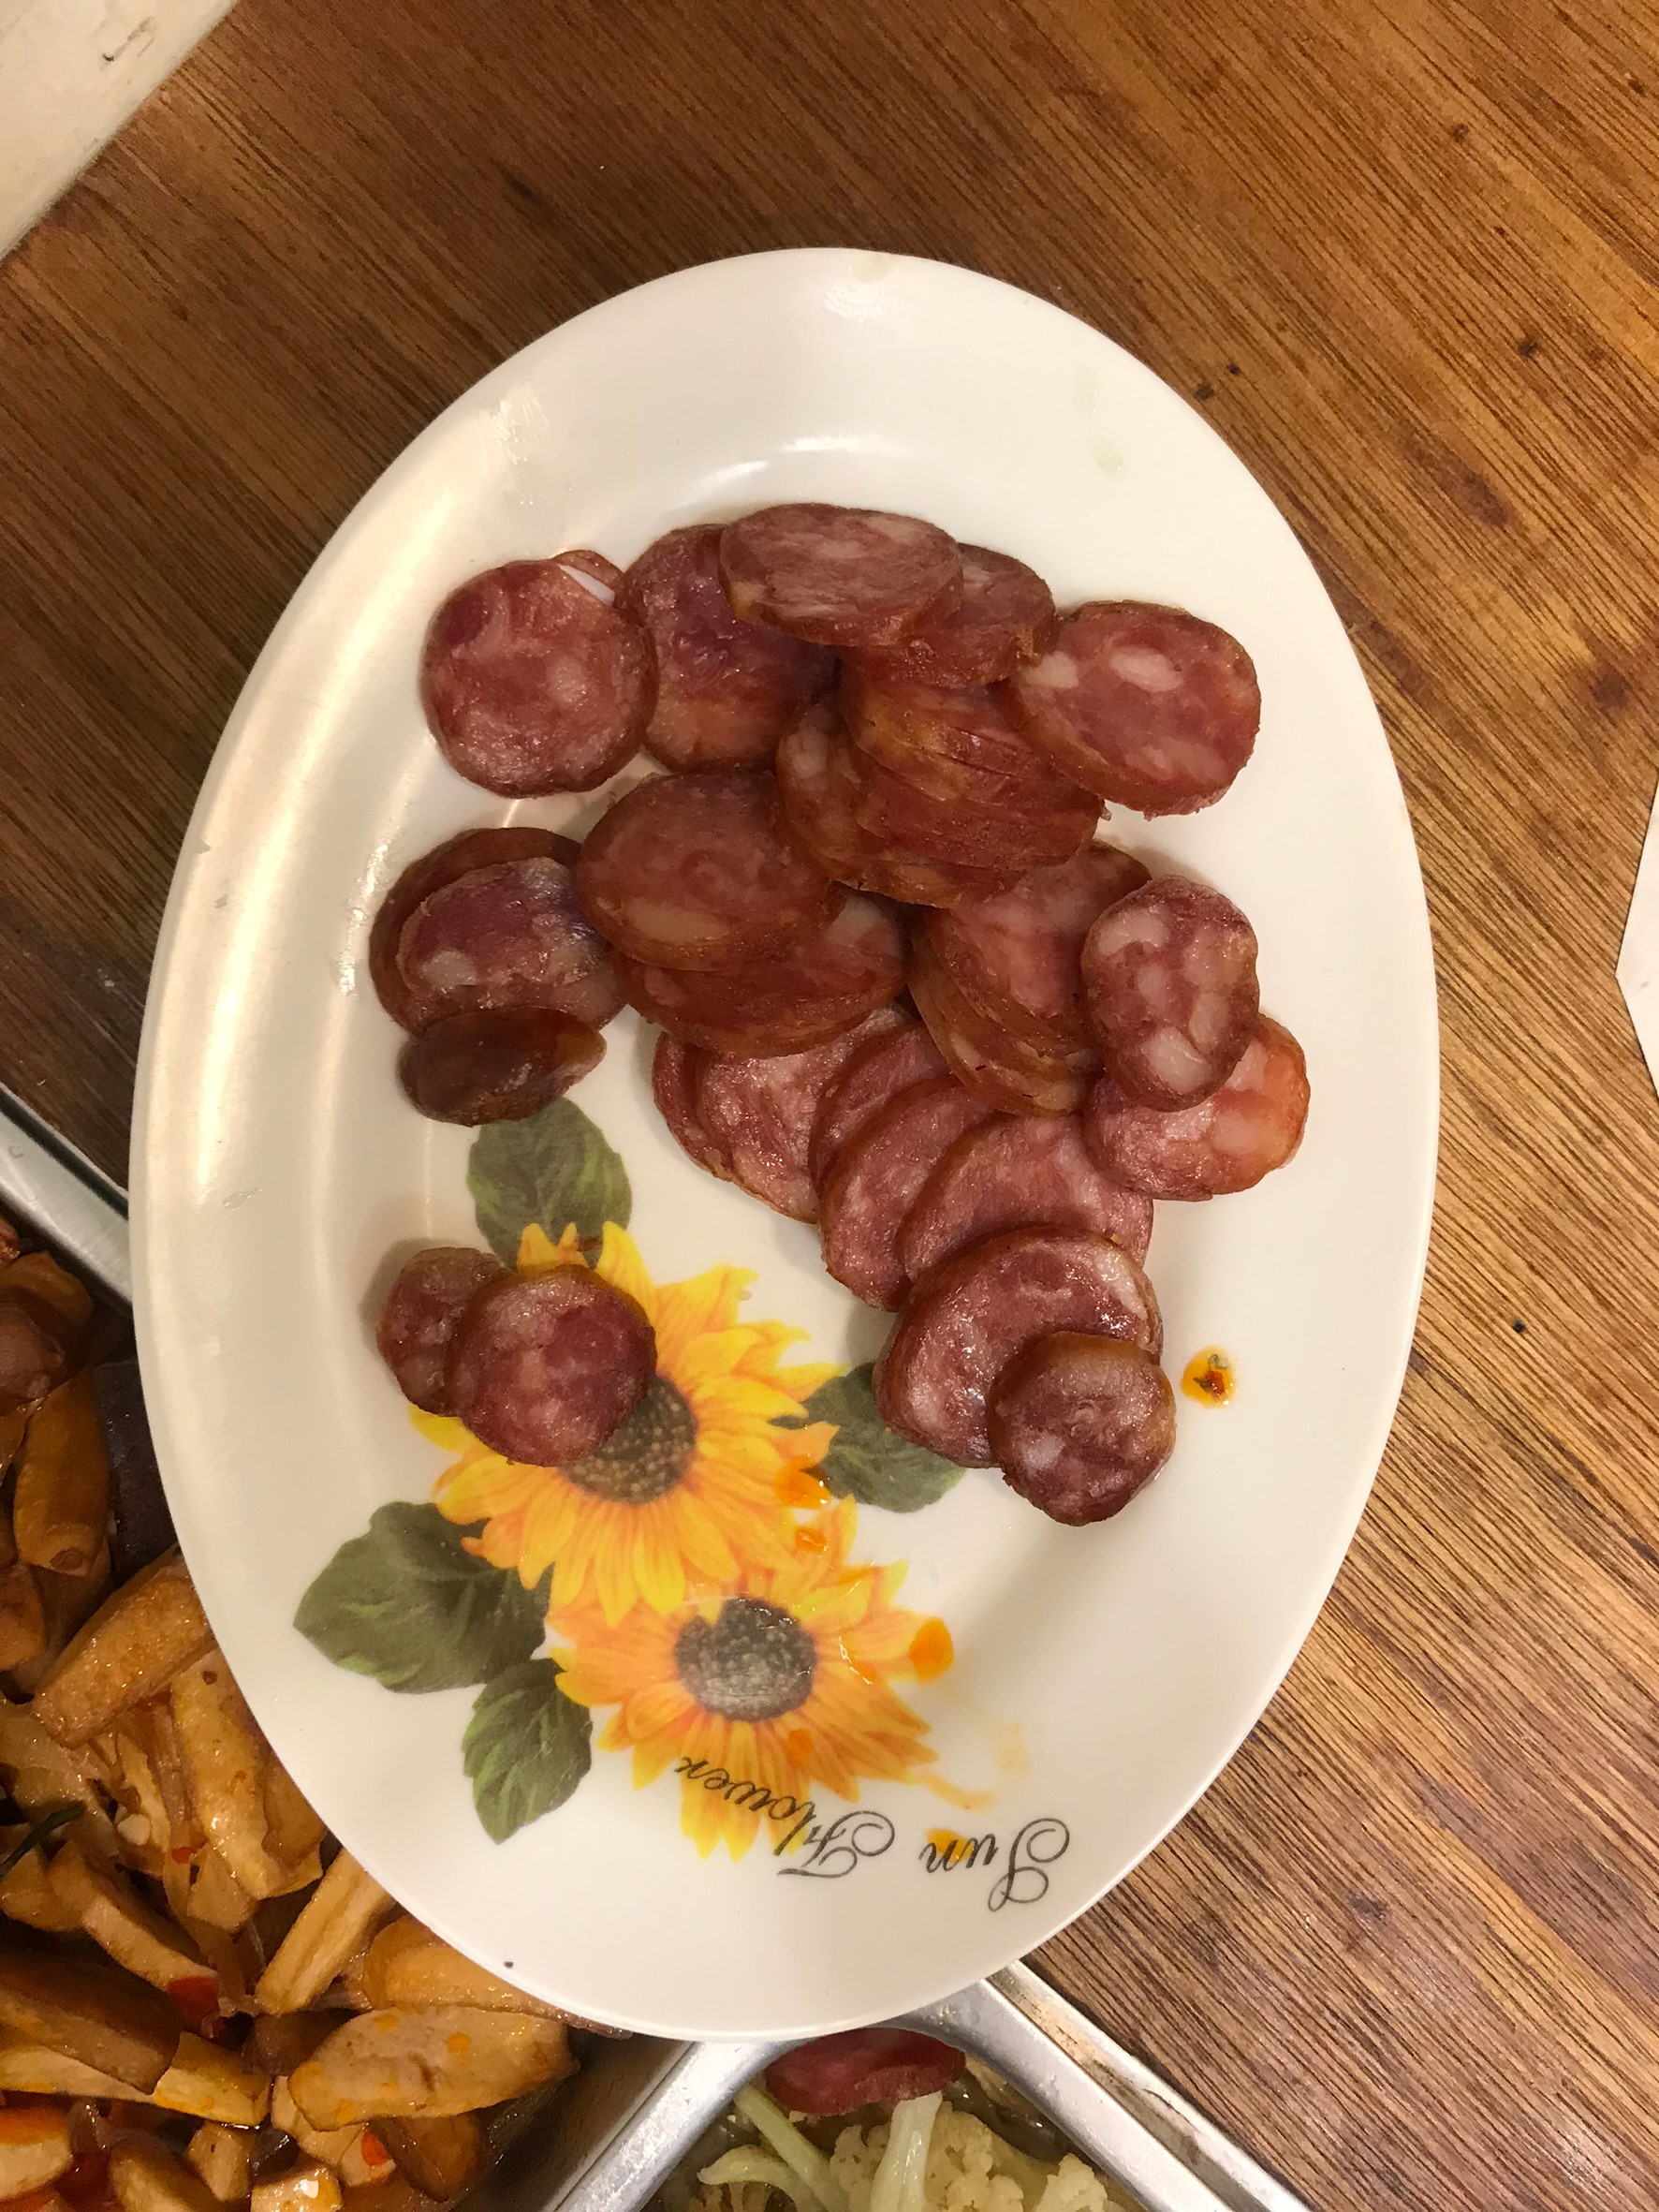chinese_sausage: (373, 504, 1297, 1496)
